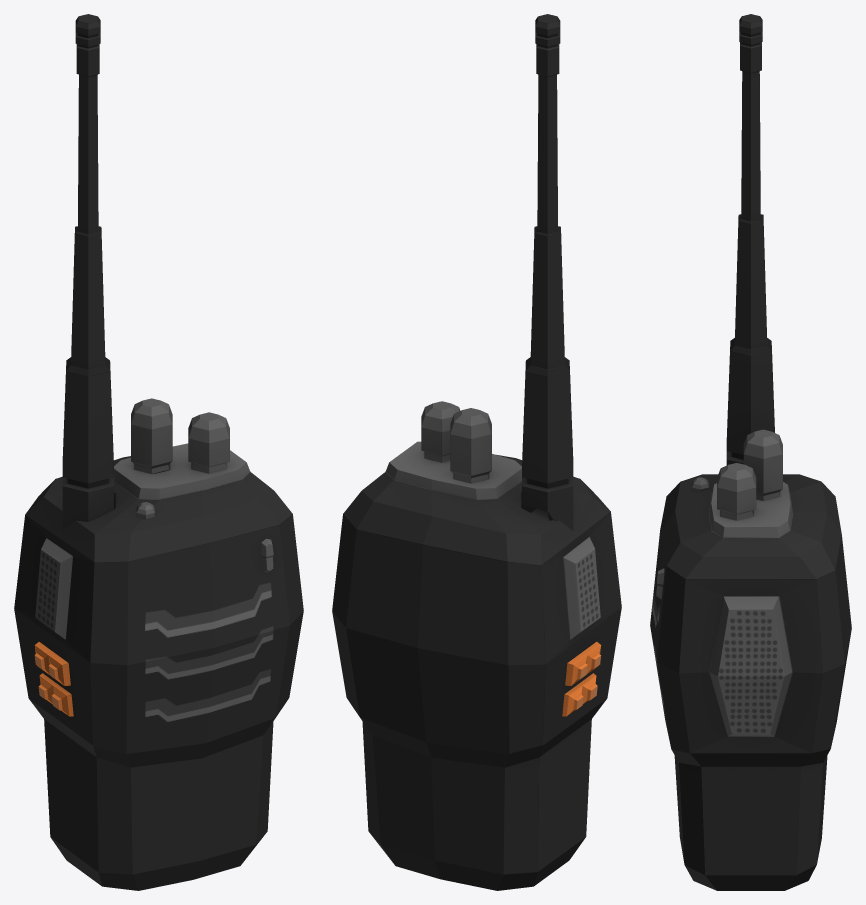
Rendered from Walkie talkie.glb.
The picture shows the model from 3 angles, left to right: view 1: azimuth 30°, elevation 25°; view 2: azimuth 150°, elevation 25°; view 3: azimuth 270°, elevation 25°; orthographic projection. The views are drawn at different scales.
Visible parts, largest first — view 1: WalkieTalkie_mesh; view 2: WalkieTalkie_mesh; view 3: WalkieTalkie_mesh.
Part boxes in pixels (box(x1,y1,x2,y2)): WalkieTalkie_mesh: box(14, 14, 303, 890); WalkieTalkie_mesh: box(332, 14, 621, 890); WalkieTalkie_mesh: box(650, 14, 851, 890).
Size of the model in its own units: 3.85 by 13.63 by 3.09.
Materials: 1 (1 with a texture image).
